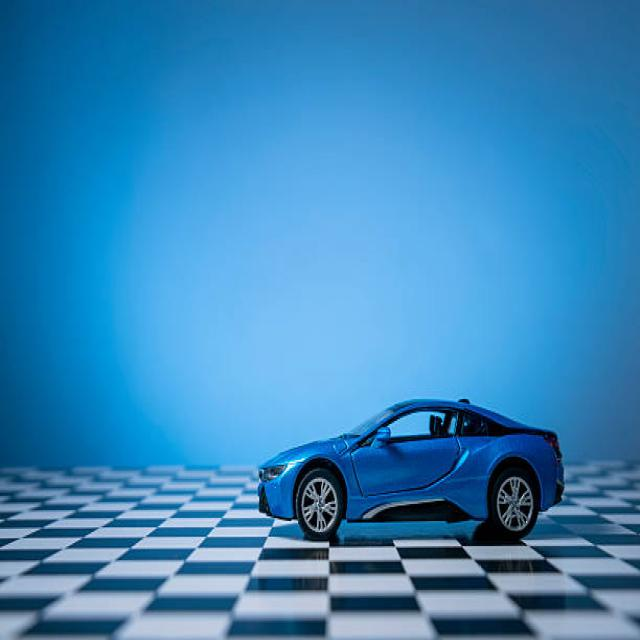Car: (256, 396, 565, 541)
